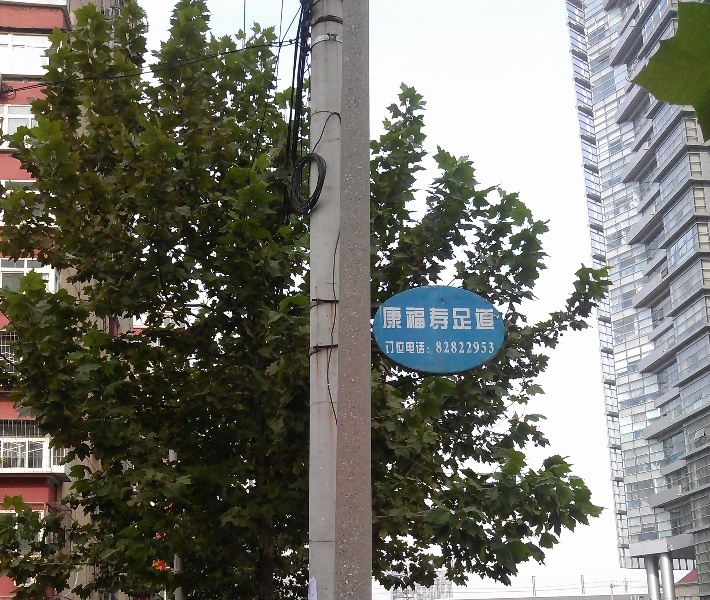text: (385, 306, 400, 331), (401, 306, 416, 331), (417, 306, 432, 331), (433, 306, 448, 331), (449, 306, 464, 331), (465, 306, 480, 331), (481, 306, 496, 331), (385, 341, 400, 355), (401, 341, 416, 355), (417, 341, 432, 355), (433, 341, 448, 355), (449, 341, 464, 355), (465, 341, 480, 355), (481, 341, 496, 355), (380, 306, 384, 331)
